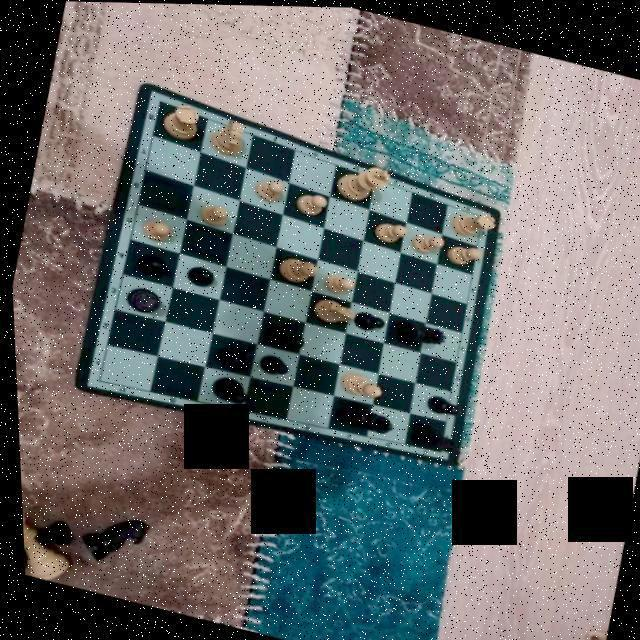chess-table-corners: (146, 90, 172, 110), (85, 370, 107, 389), (428, 442, 444, 458)
